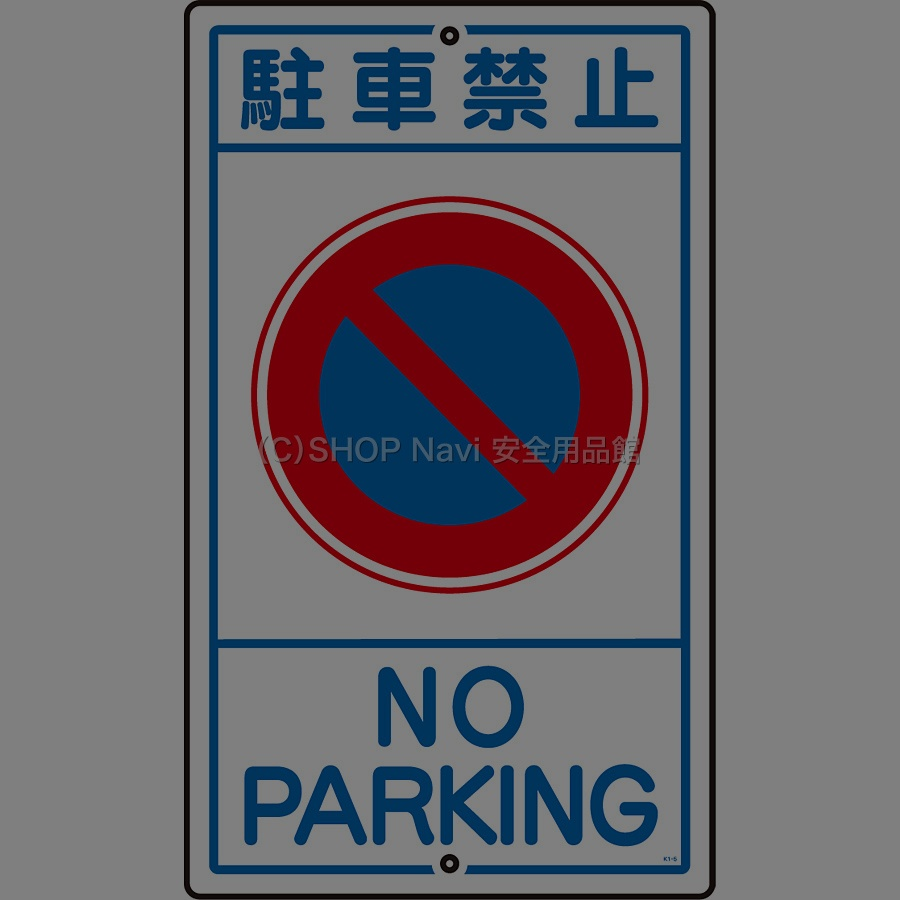Prohibition_sign: (240, 180, 646, 602)
